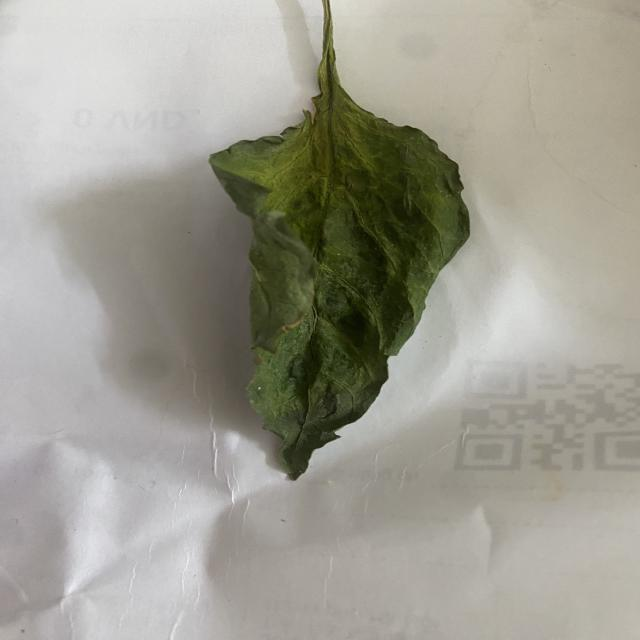Leaf: (207, 119, 470, 482)
